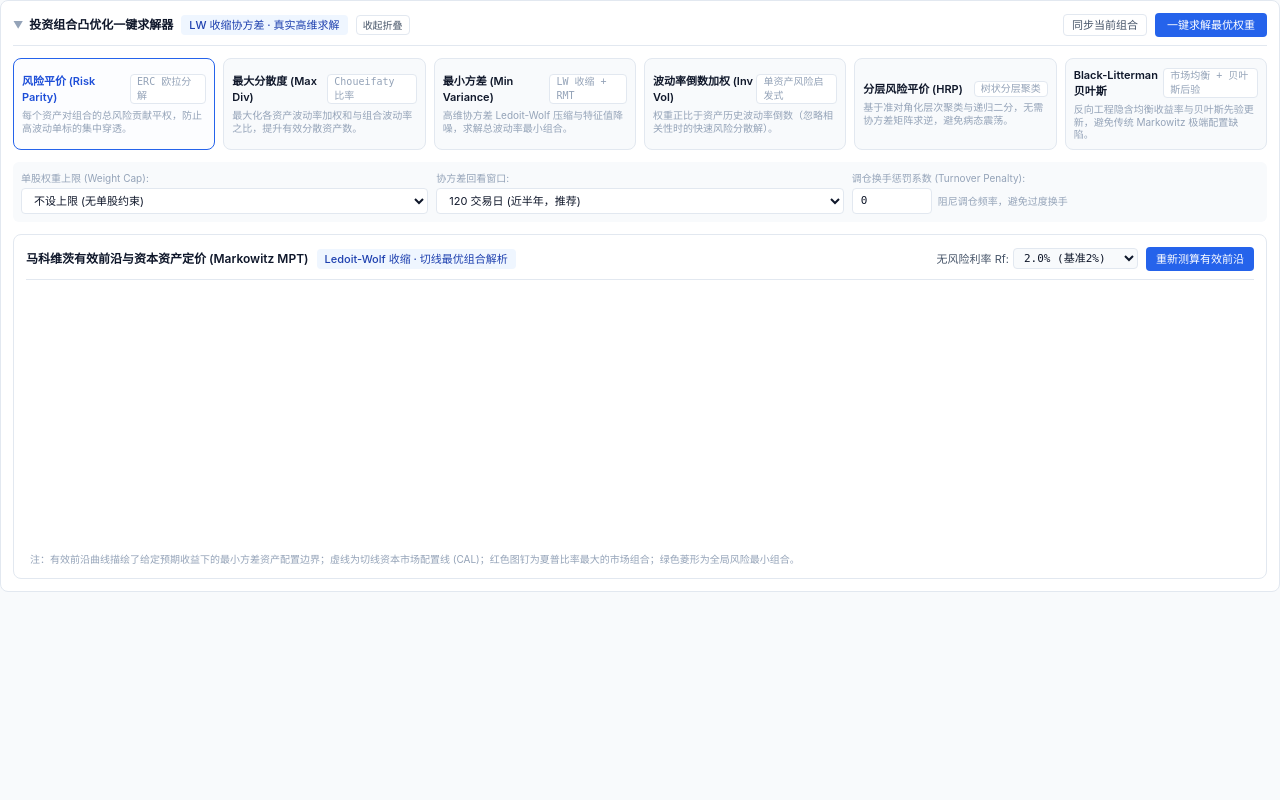
it: PortfolioOptimizerPanel › 初始正确渲染并支持选择优化模型与求解
Check: the text "投资组合凸优化一键求解器" is shown, box x1=29 y1=17 x2=173 y2=33
Check: the text "风险平价 (Risk Parity)" is shown, box x1=22 y1=74 x2=95 y2=104
Click the button "一键求解最优权重": (1211, 25) x1=1155 y1=13 x2=1267 y2=37
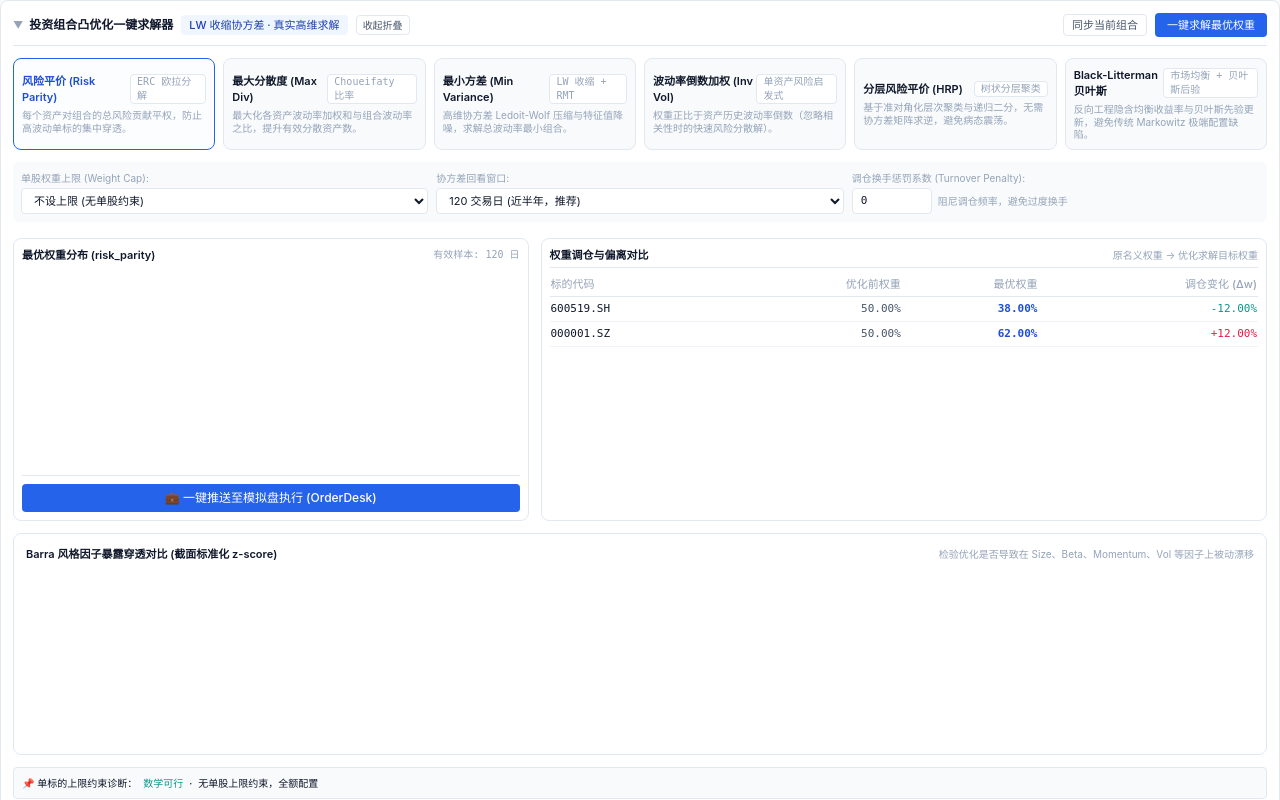
Check: the text "权重调仓与偏离对比" is shown, box x1=550 y1=246 x2=648 y2=262
Check: the text "600519.SH" is shown, box x1=550 y1=296 x2=732 y2=321
Check: the text "38.00%" is shown, box x1=902 y1=296 x2=1038 y2=321
